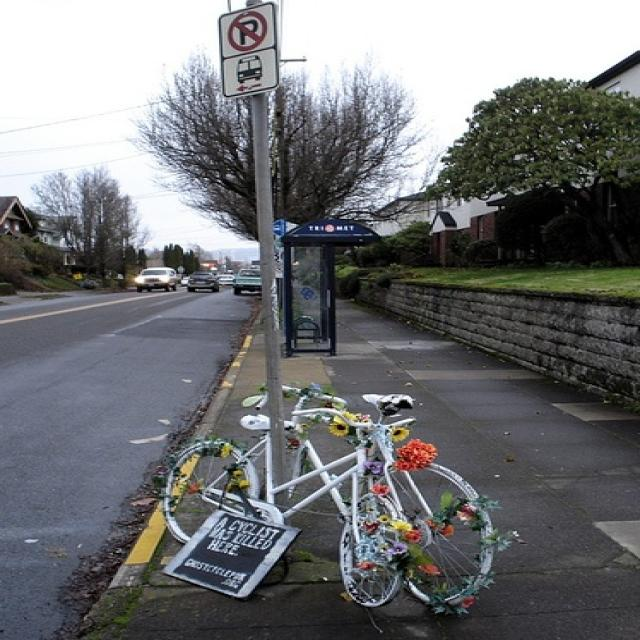bicycle: (160, 413, 420, 613), (277, 383, 501, 611)
car: (133, 268, 174, 296), (230, 268, 263, 298), (184, 273, 222, 292)
